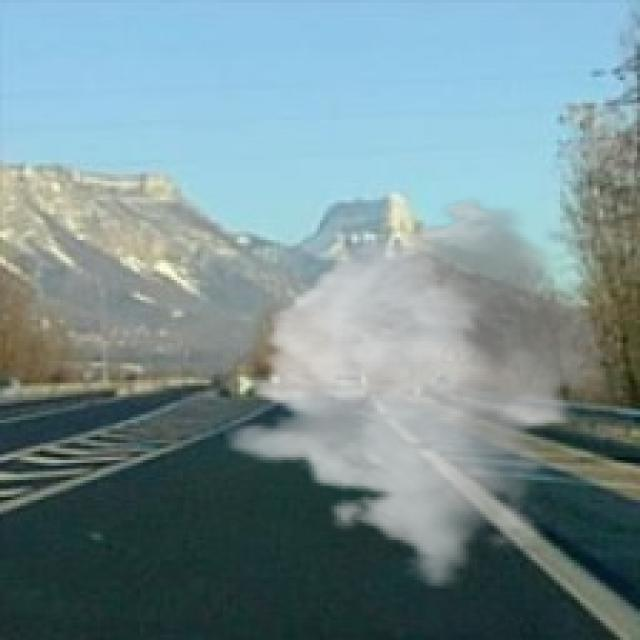Smoke: (220, 194, 614, 589)
